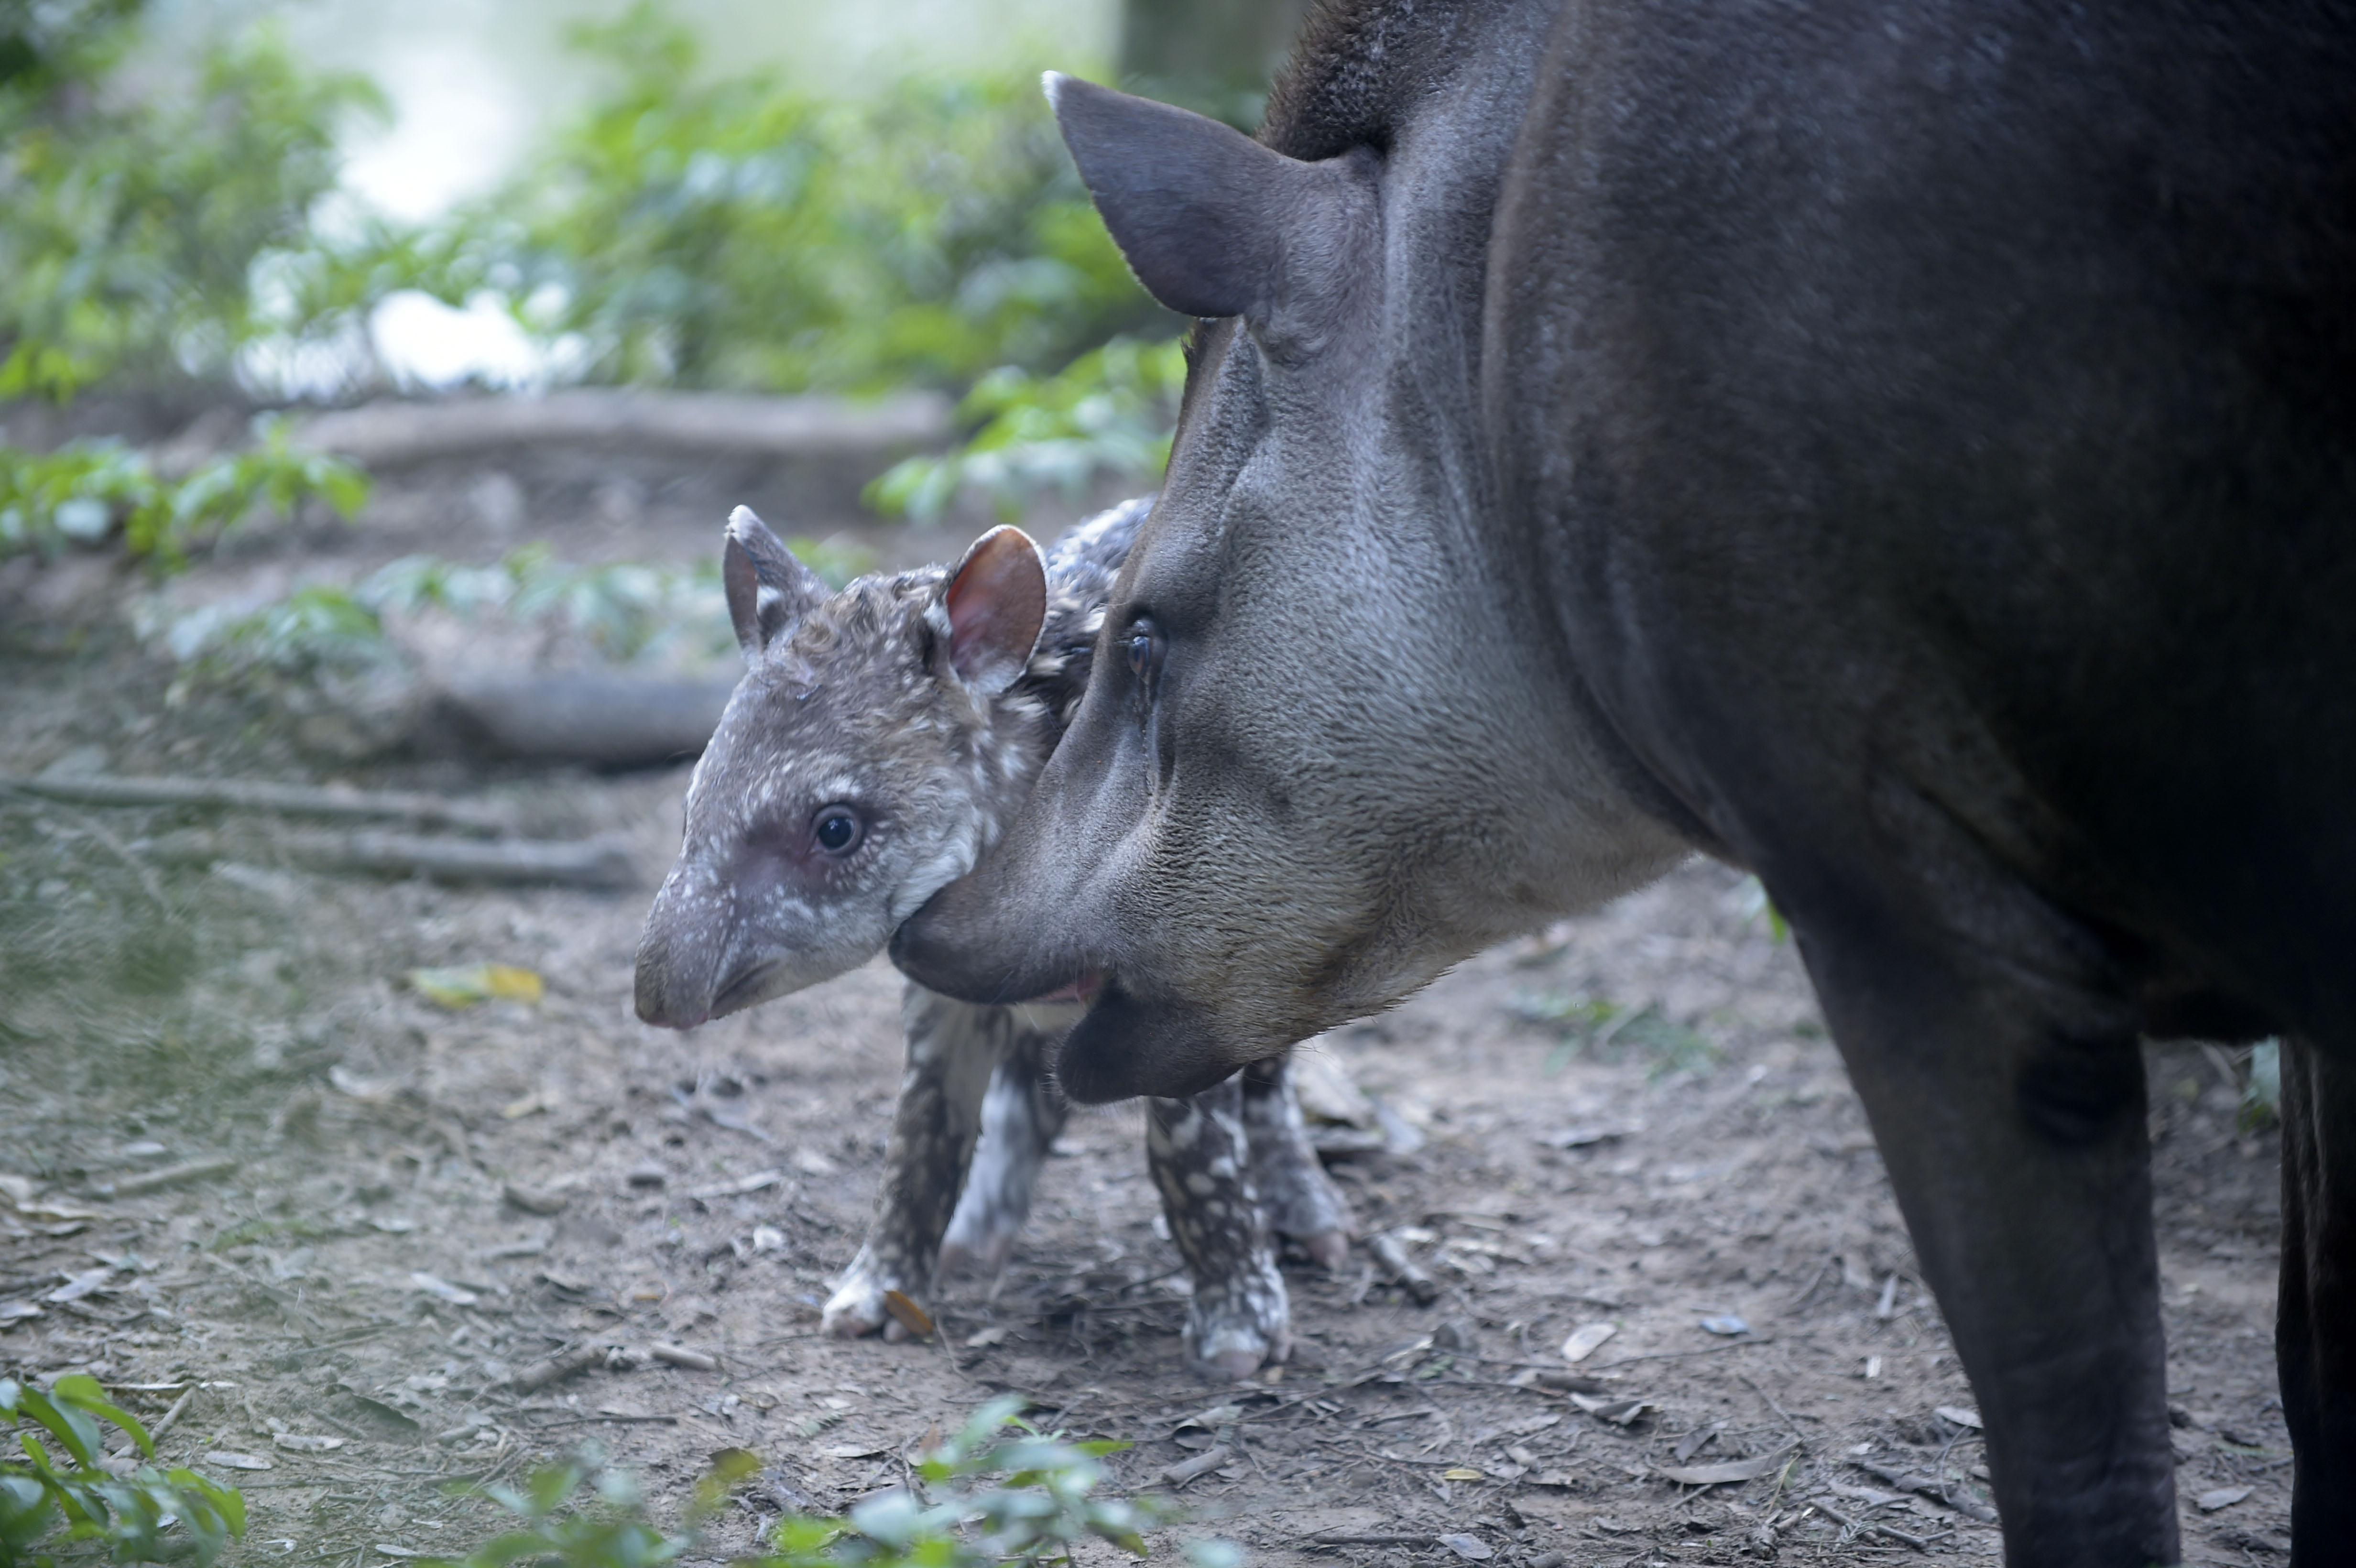Anta: (879, 23, 2333, 1531), (613, 483, 1413, 1400)
